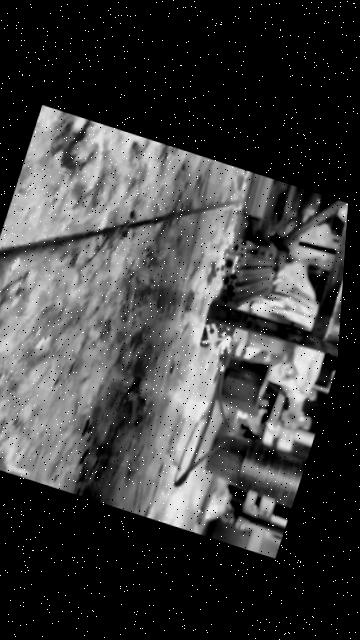pot: (211, 351, 273, 418)
